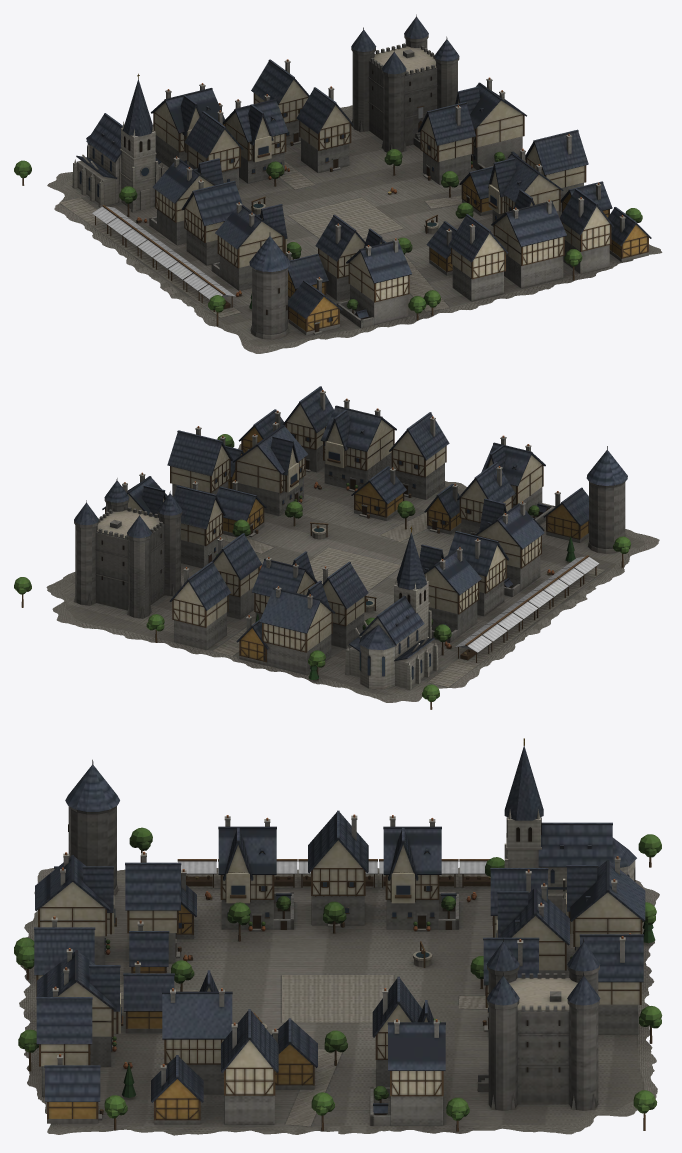
Rendered from kingdoms-town-big-b-europe.glb.
3 renders of one model, top to bottom at view 1: azimuth 30°, elevation 25°; view 2: azimuth 150°, elevation 25°; view 3: azimuth 270°, elevation 25°, orthographic. The views are drawn at different scales.
Visible parts, largest first — view 1: LOD0; view 2: LOD0; view 3: LOD0.
Boxes of the visible parts, x1,y1,x2,y2 form: LOD0: (14, 14, 662, 353); LOD0: (14, 386, 659, 709); LOD0: (14, 738, 662, 1135).
Size of what is drawn, in the model's own units: 8.06 by 2.39 by 8.12.
Materials: 3 (3 with a texture image).
